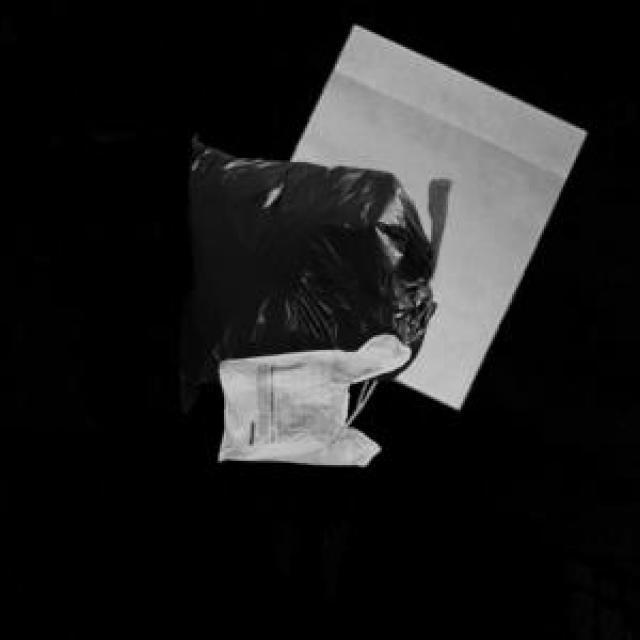miscellaneous trash: (177, 132, 448, 408)
paper: (286, 21, 582, 405)
